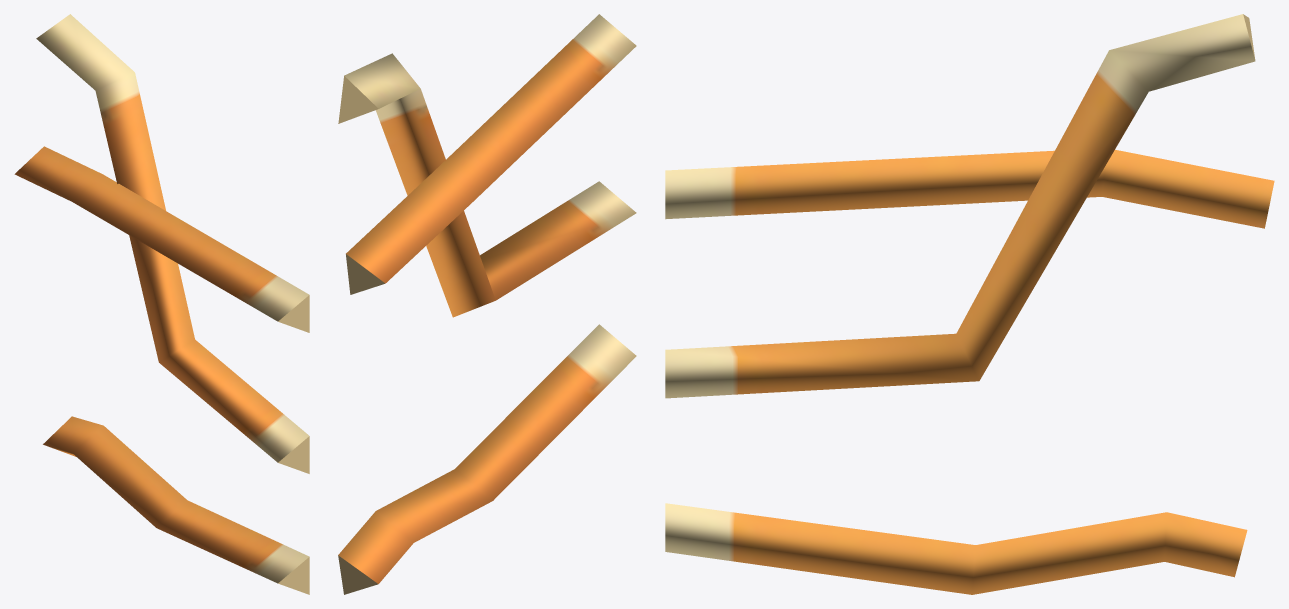
File: sundries_06_c2cf2218__ZombiesII_depot_diffuse_03_573b45f4_c1f257.obj
The picture shows the model from 3 angles, left to right: view 1: azimuth 30°, elevation 25°; view 2: azimuth 150°, elevation 25°; view 3: azimuth 270°, elevation 25°; orthographic projection. The views are drawn at different scales.
Size of the model in its own units: 0.1855 by 1.23 by 1.19.
Materials: 1 (1 with a texture image).
